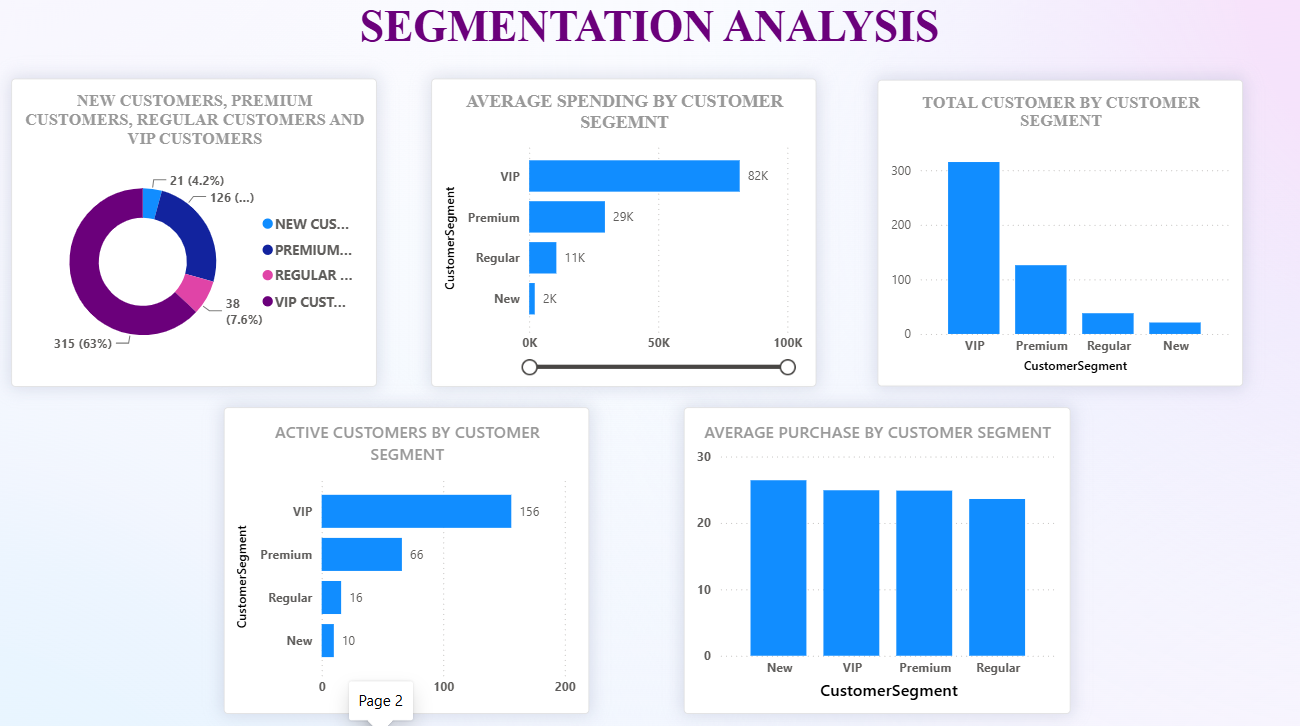

The page's visual inventory and layout, read from the dashboard file:
{"tool":"powerbi","page":{"name":"Page 2","canvas":[1280,720],"ordinal":2},"visuals":[{"type":"textbox","box":[338.5,0,603.1,62],"z":0},{"type":"donutChart","title":"NEW CUSTOMERS, PREMIUM CUSTOMERS, REGULAR CUSTOMERS AND VIP CUSTOMERS","fields":{"Y":["customerdatacleaned.NEW CUSTOMERS","customerdatacleaned.PREMIUM CUSTOMERS","customerdatacleaned.REGULAR CUSTOMERS","customerdatacleaned.VIP CUSTOMERS"]},"box":[15.9,80.8,357.8,301.5],"z":1000},{"type":"barChart","title":"AVERAGE SPENDING BY CUSTOMER SEGEMNT","fields":{"Category":["customerdatacleaned.CustomerSegment"],"Y":["customerdatacleaned.AVERAGE SPENDING"]},"box":[427.1,80.8,376.6,301.5],"z":2000},{"type":"columnChart","title":"TOTAL CUSTOMER BY CUSTOMER SEGMENT","fields":{"Category":["customerdatacleaned.CustomerSegment"],"Y":["customerdatacleaned.TOTAL CUSTOMER"]},"box":[862.8,82.2,357.8,300.1],"z":3000},{"type":"clusteredBarChart","title":"ACTIVE CUSTOMERS BY CUSTOMER SEGMENT","fields":{"Category":["customerdatacleaned.CustomerSegment"],"Y":["customerdatacleaned.ACTIVE CUSTOMERS"]},"box":[223.6,402.5,357.8,300.1],"z":4000},{"type":"clusteredColumnChart","title":"AVERAGE PURCHASE BY CUSTOMER SEGMENT","fields":{"Category":["customerdatacleaned.CustomerSegment"],"Y":["customerdatacleaned.AVERAGE PURCHASE"]},"box":[673.8,402.5,378,300.1],"z":5000}]}

Visuals, with their boxes in screenshot pixels (x1, y1, x2, y2), scaled from the page's 1280x720 canvas onto the 1300x726 screenshot:
textbox: rect(344, 0, 956, 63)
"NEW CUSTOMERS, PREMIUM CUSTOMERS, REGULAR CUSTOMERS AND VIP CUSTOMERS" donutChart: rect(16, 81, 380, 385)
"AVERAGE SPENDING BY CUSTOMER SEGEMNT" barChart: rect(434, 81, 816, 385)
"TOTAL CUSTOMER BY CUSTOMER SEGMENT" columnChart: rect(876, 83, 1240, 385)
"ACTIVE CUSTOMERS BY CUSTOMER SEGMENT" clusteredBarChart: rect(227, 406, 590, 708)
"AVERAGE PURCHASE BY CUSTOMER SEGMENT" clusteredColumnChart: rect(684, 406, 1068, 708)
